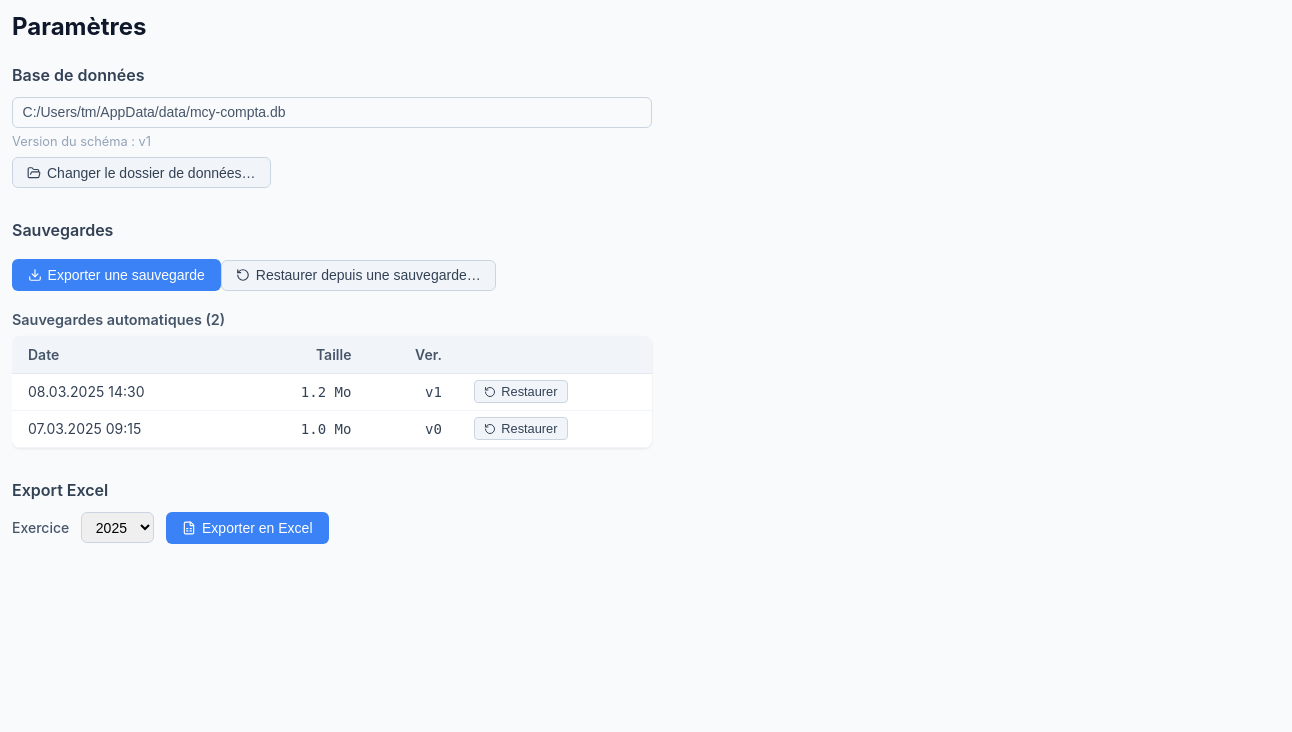
Test: SettingsPage — export › affiche un message d'erreur si l'export échoue
Click the button "Exporter une sauvegarde": (116, 275) x1=12 y1=259 x2=221 y2=291
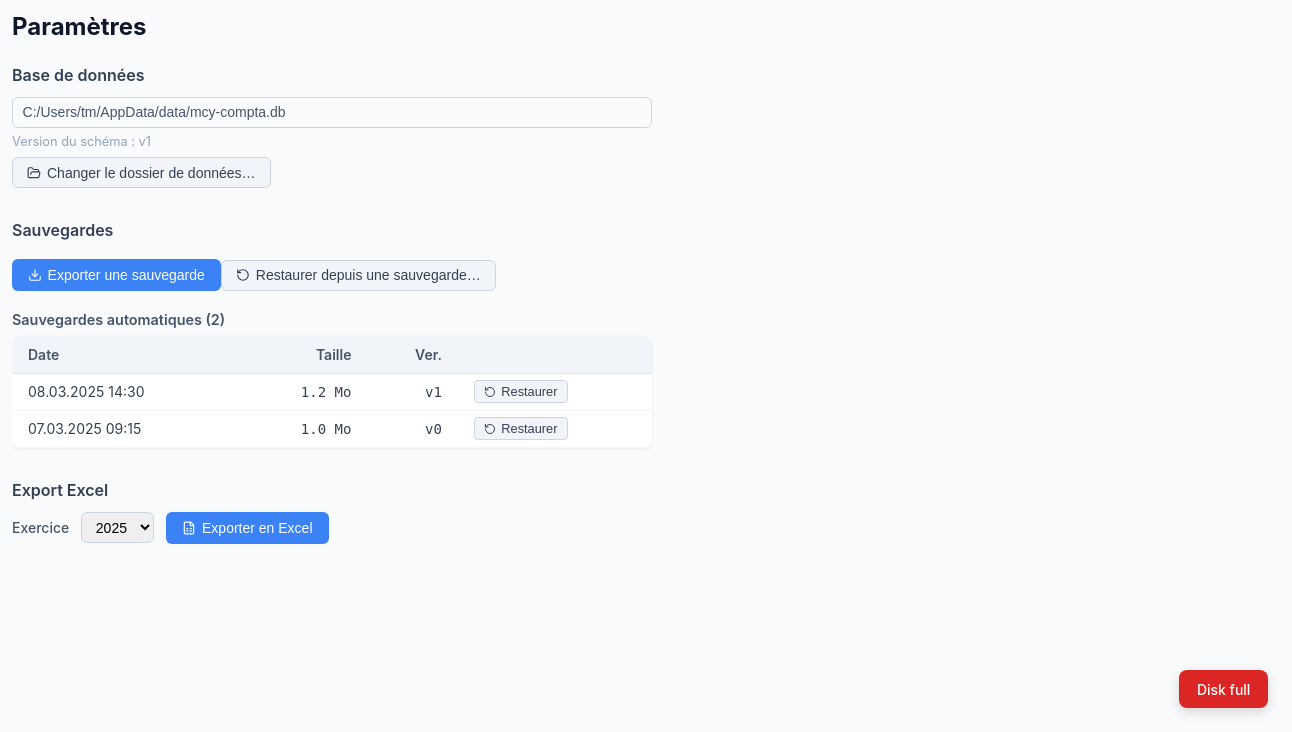
Expected: the message "Disk full" is shown, x1=1179 y1=670 x2=1268 y2=708
